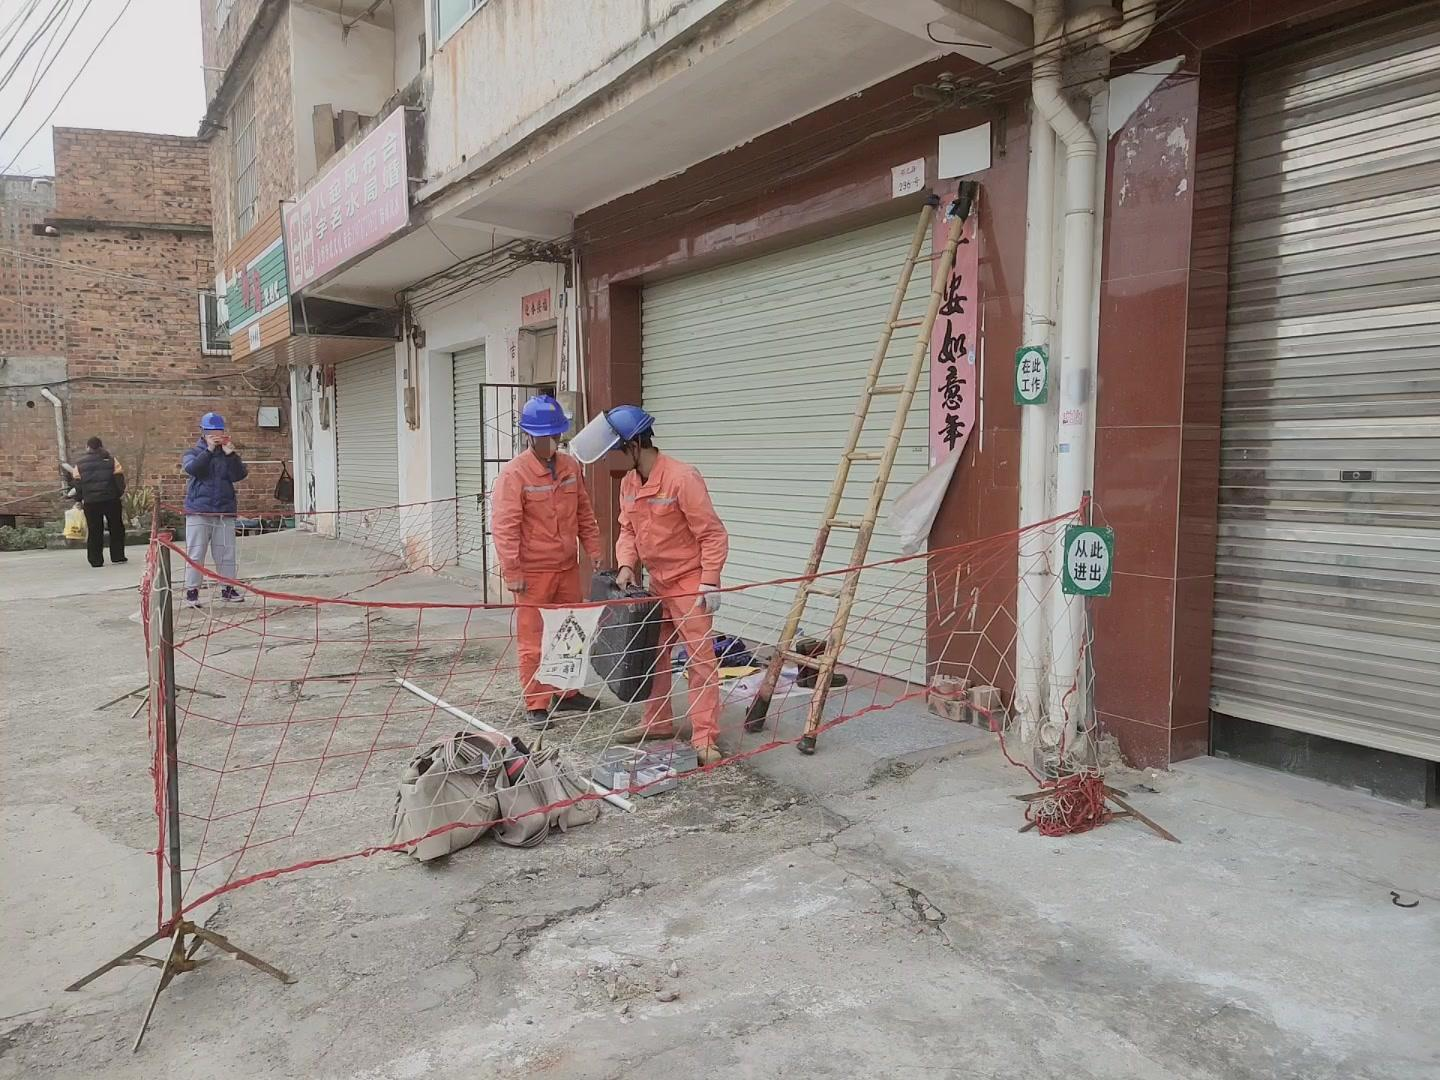halt: (598, 408, 657, 474), (520, 398, 573, 454), (201, 415, 230, 445)
unhalt: (88, 436, 110, 454)
